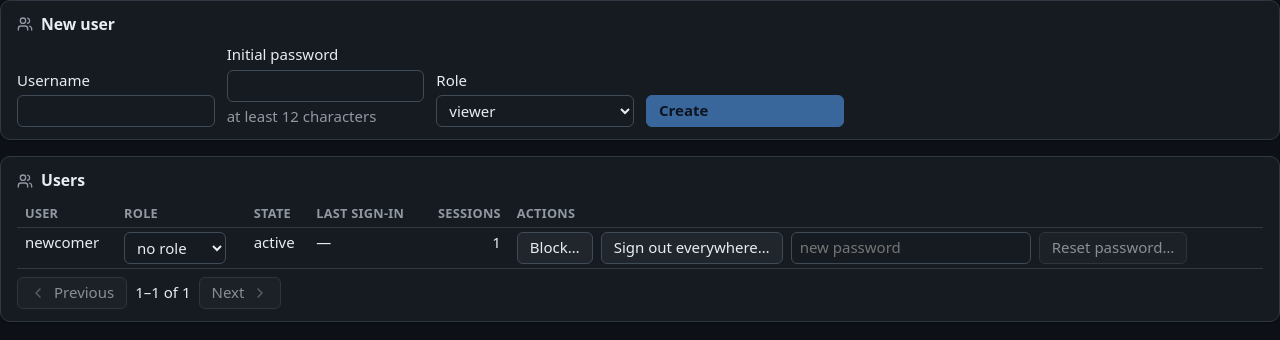
it: UsersScreen › offers no role change for a user without a role until one is chosen
This screenshot has width=1280, height=340.
Expected: the button "Apply…" is not shown
Select "operator" in the dropdown named "Role of newcomer". click: (175, 248)
box: left=124, top=232, right=226, bottom=264
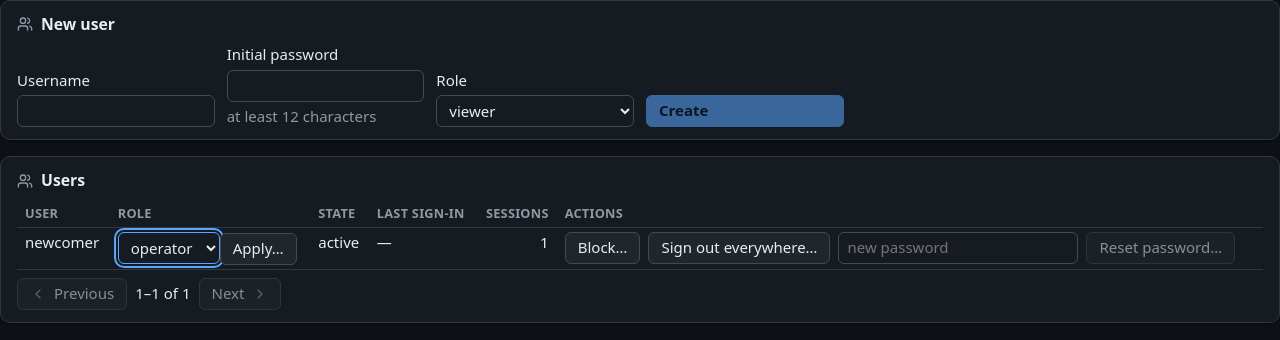
Expected: the button "Apply…" is shown, left=220, top=232, right=297, bottom=264
